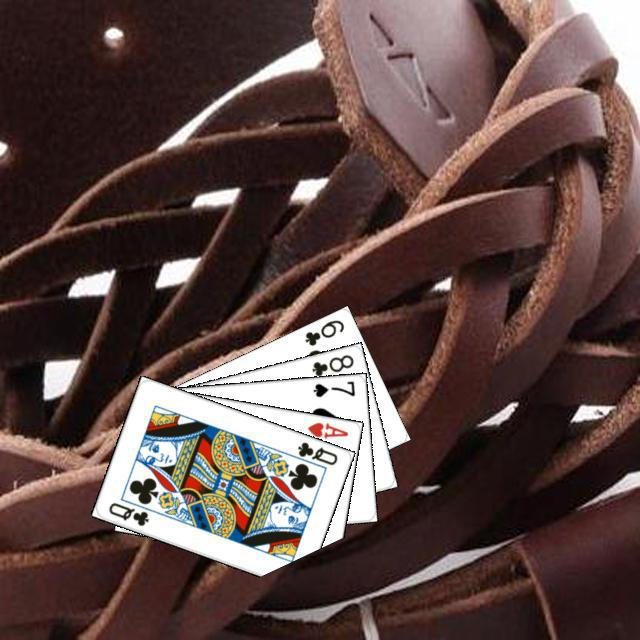6c: (300, 315, 346, 348)
7s: (308, 376, 356, 399)
8c: (307, 350, 355, 378)
Ah: (302, 417, 350, 440)
Qc: (285, 437, 339, 472), (104, 498, 151, 528)
